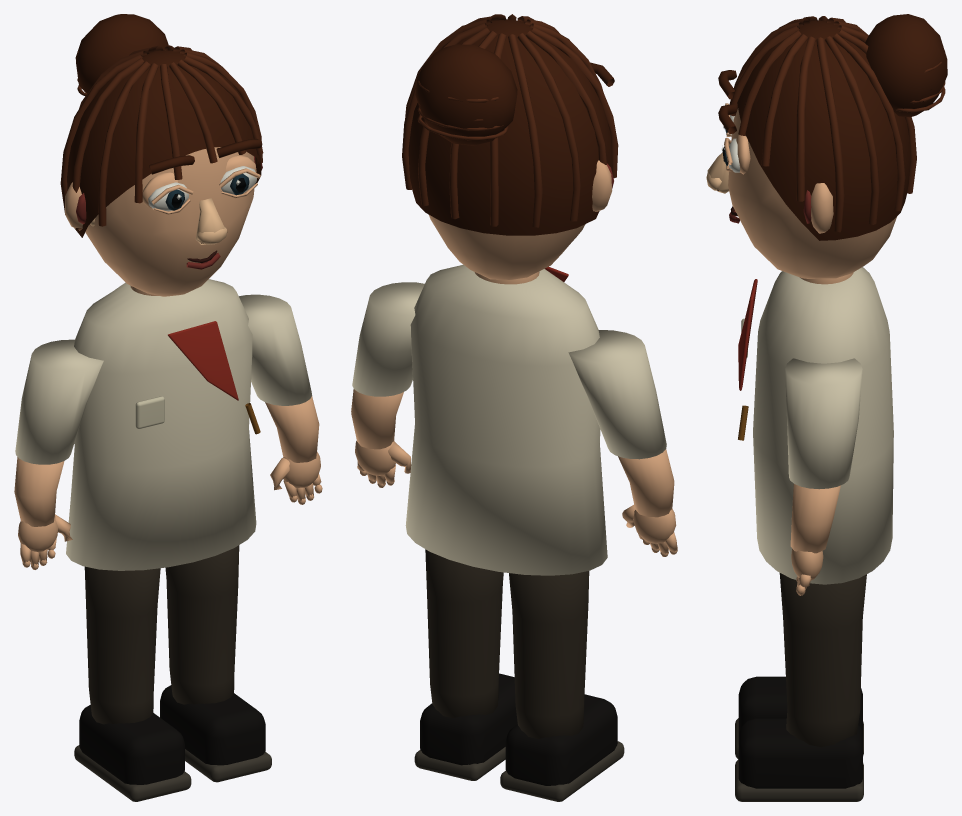
File: receptionist-04.glb
3 renders of one model, left to right at view 1: azimuth 30°, elevation 25°; view 2: azimuth 150°, elevation 25°; view 3: azimuth 270°, elevation 25°, orthographic. The views are drawn at different scales.
Parts seen in each view (by area): view 1: Body, Head, LegL, LegR, ArmL, ArmR; view 2: Body, Head, LegL, LegR, ArmL, ArmR; view 3: Head, Body, LegR, ArmR, LegL.
Part boxes in pixels (x1,y1,x2,y2): Body: (66, 279, 260, 570); Head: (60, 14, 263, 296); LegL: (74, 566, 191, 801); LegR: (160, 545, 271, 782); ArmL: (14, 339, 103, 569); ArmR: (239, 294, 322, 504); Body: (405, 264, 607, 575); Head: (402, 14, 618, 279); LegL: (500, 571, 624, 801); LegR: (414, 549, 517, 780); ArmL: (568, 330, 677, 556); ArmR: (351, 282, 424, 487); Head: (706, 14, 947, 278); Body: (738, 267, 893, 584); LegR: (735, 573, 866, 801); ArmR: (785, 358, 862, 595); LegL: (735, 676, 863, 759).
Bounding box in the file's own units: 0.618 × 1.4 × 0.4084.
